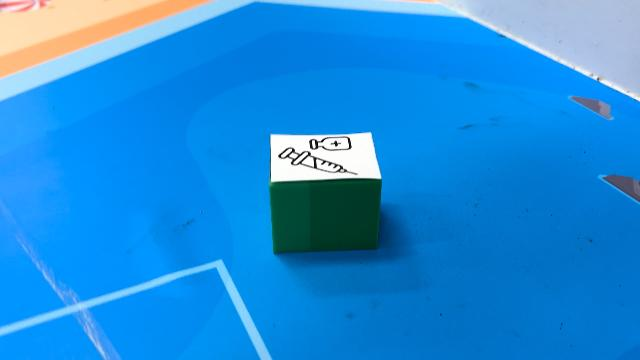syringe: (270, 132, 384, 254)
